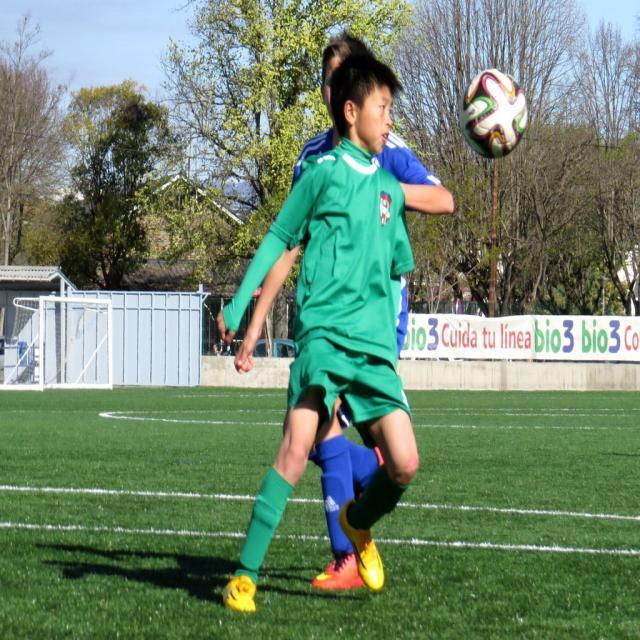football: (443, 38, 536, 173)
